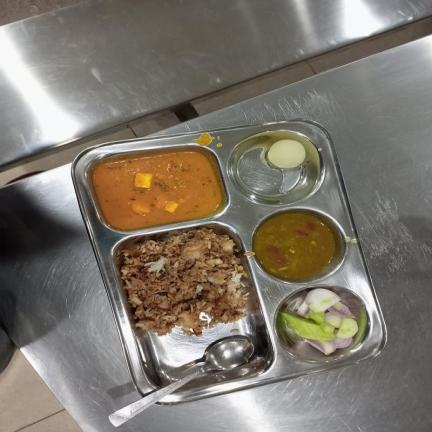Chhaina: (266, 139, 307, 169)
Dal: (253, 210, 336, 282)
Fried Rice: (120, 228, 249, 339)
Paneer: (92, 149, 223, 229)
Plate: (70, 117, 388, 407)
Salad: (282, 286, 358, 358)
